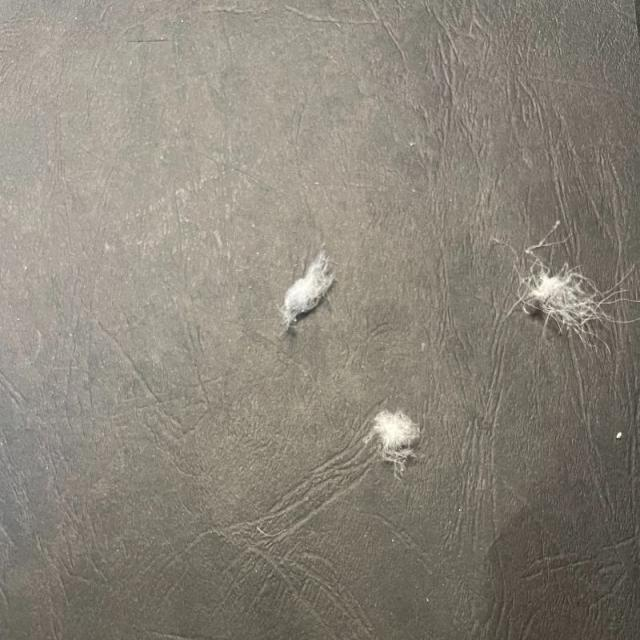feather: (513, 218, 634, 356), (274, 243, 334, 338), (368, 403, 424, 477)
